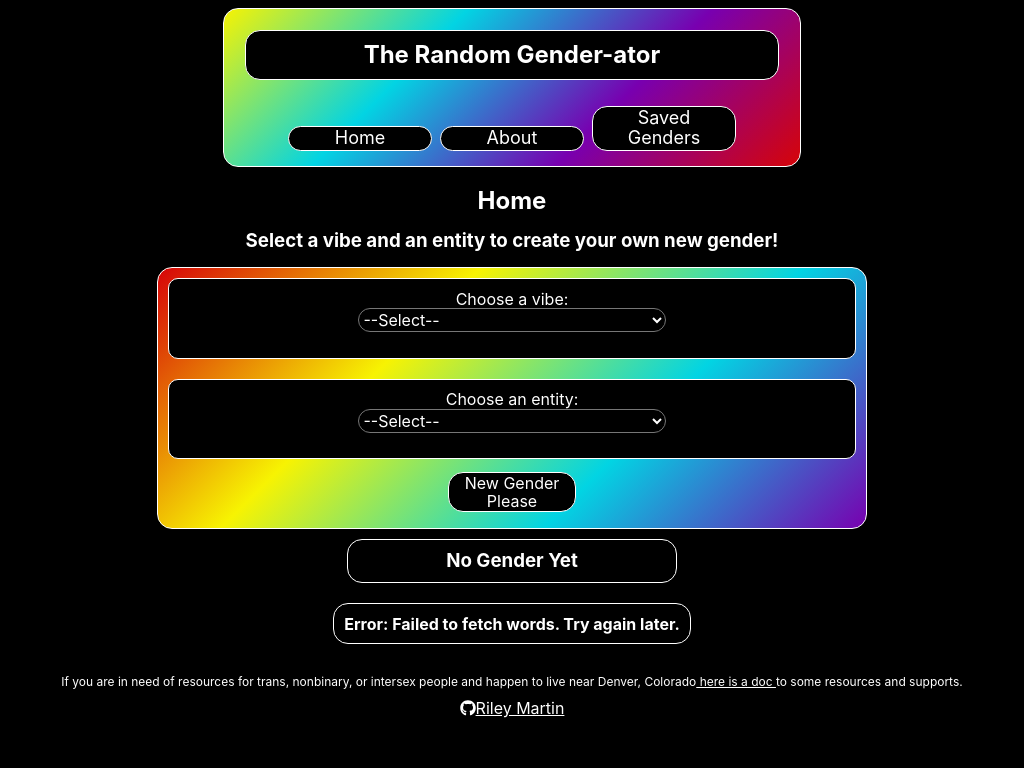
App Error Handling › Should display an error message if any of the selected category arrays do not contain any word associations
Select "Sparkle" in the dropdown named "vibe". click: (512, 320)
box: [358,308,665,332]
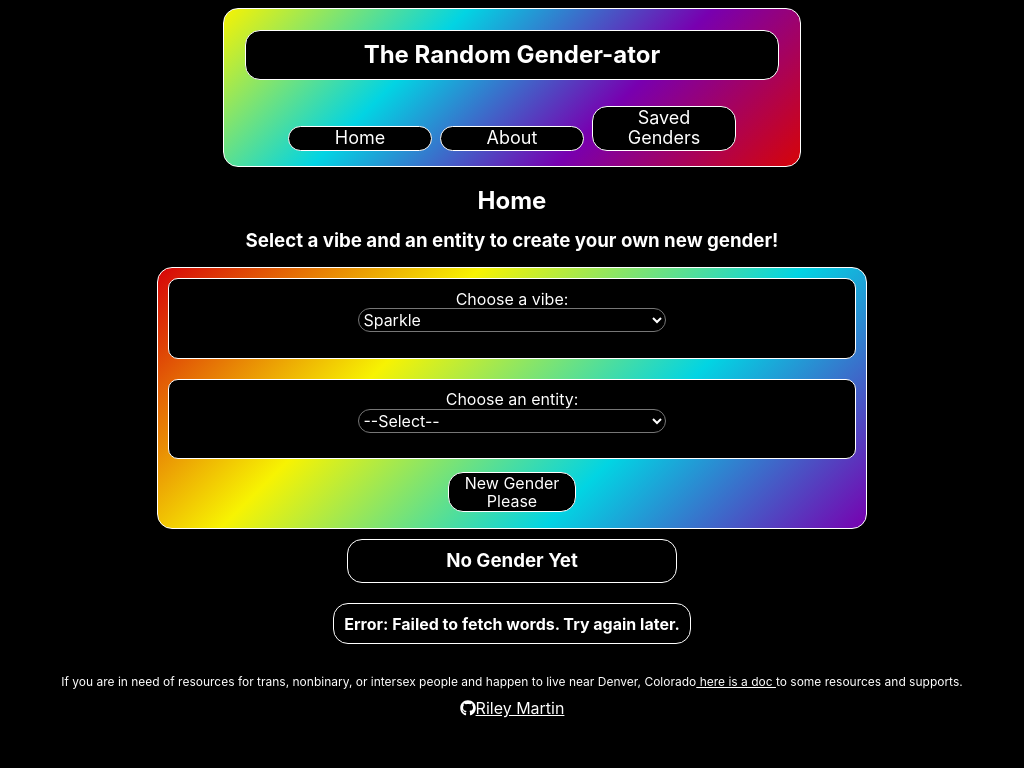
Select "Extraterrestrial" in the dropdown named "entity". click: (512, 421)
box: [358,409,665,433]
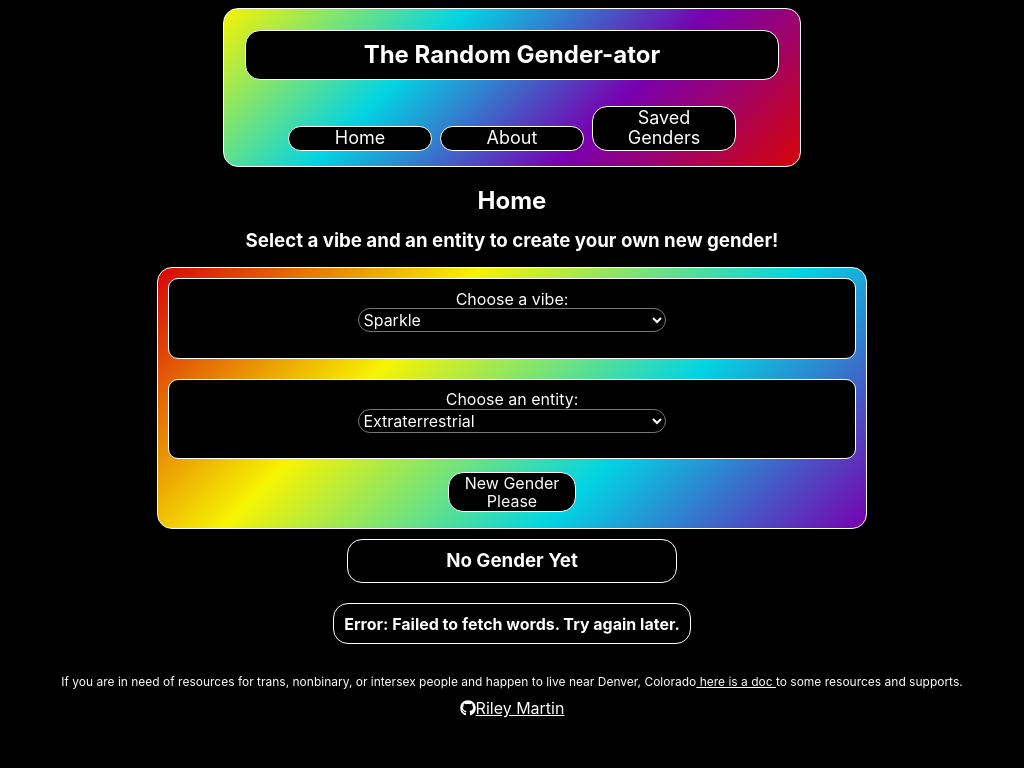
Click the button with class "new-gender-btn". click: (512, 493)
box: [448,472,576,513]
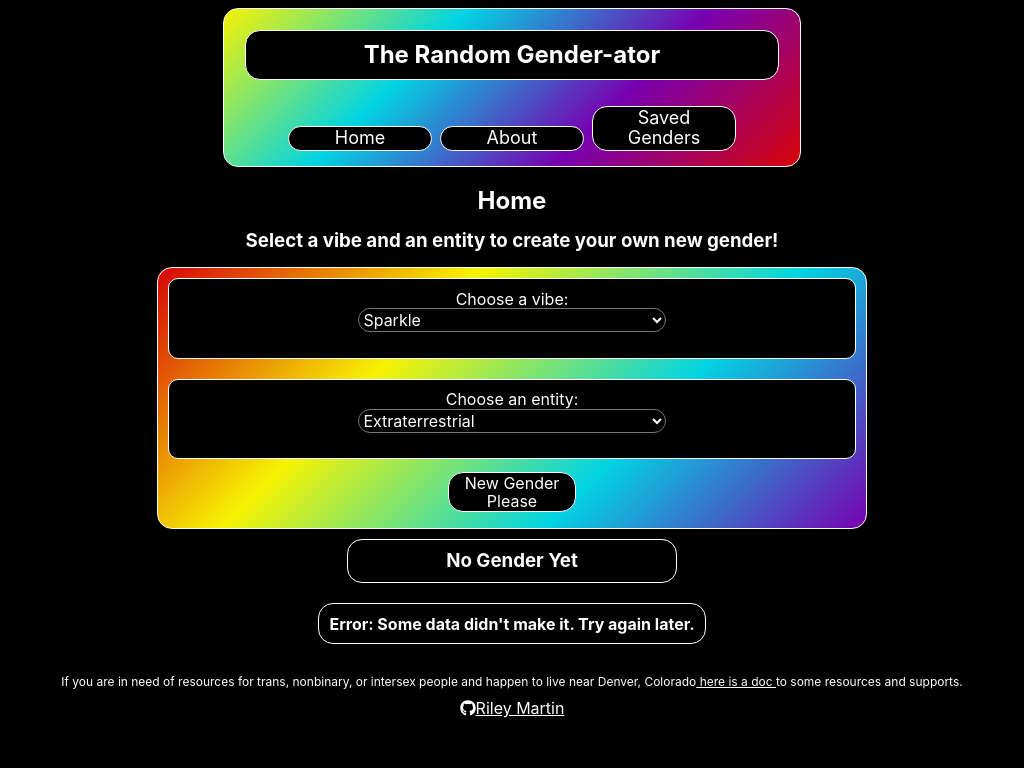
Expected: the element with class "error" reads "Error: Some data didn't make it. Try again later.", [318,603,706,644]
